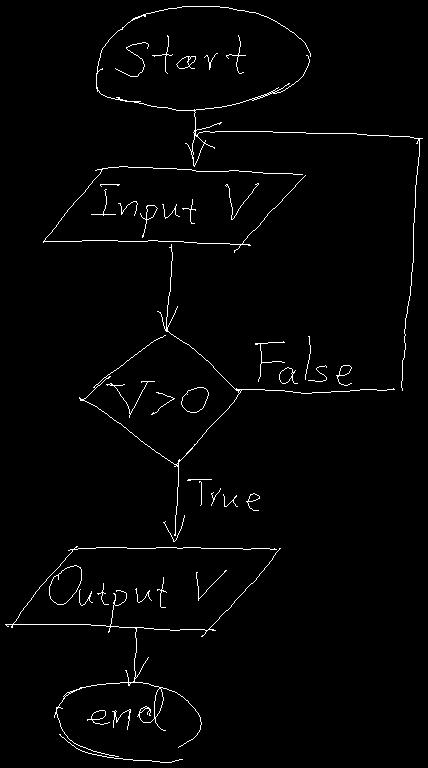arrow: (193, 122, 422, 393), (157, 244, 177, 331), (163, 459, 184, 541), (125, 627, 148, 685), (185, 109, 205, 166)
data: (5, 546, 280, 636), (43, 166, 305, 252)
decision: (79, 329, 241, 467)
terminator: (96, 6, 310, 110), (54, 682, 201, 762)
text: (49, 565, 226, 632), (91, 183, 258, 237), (115, 35, 245, 76), (255, 336, 351, 385), (106, 381, 208, 417), (87, 687, 165, 730), (187, 479, 259, 510)
